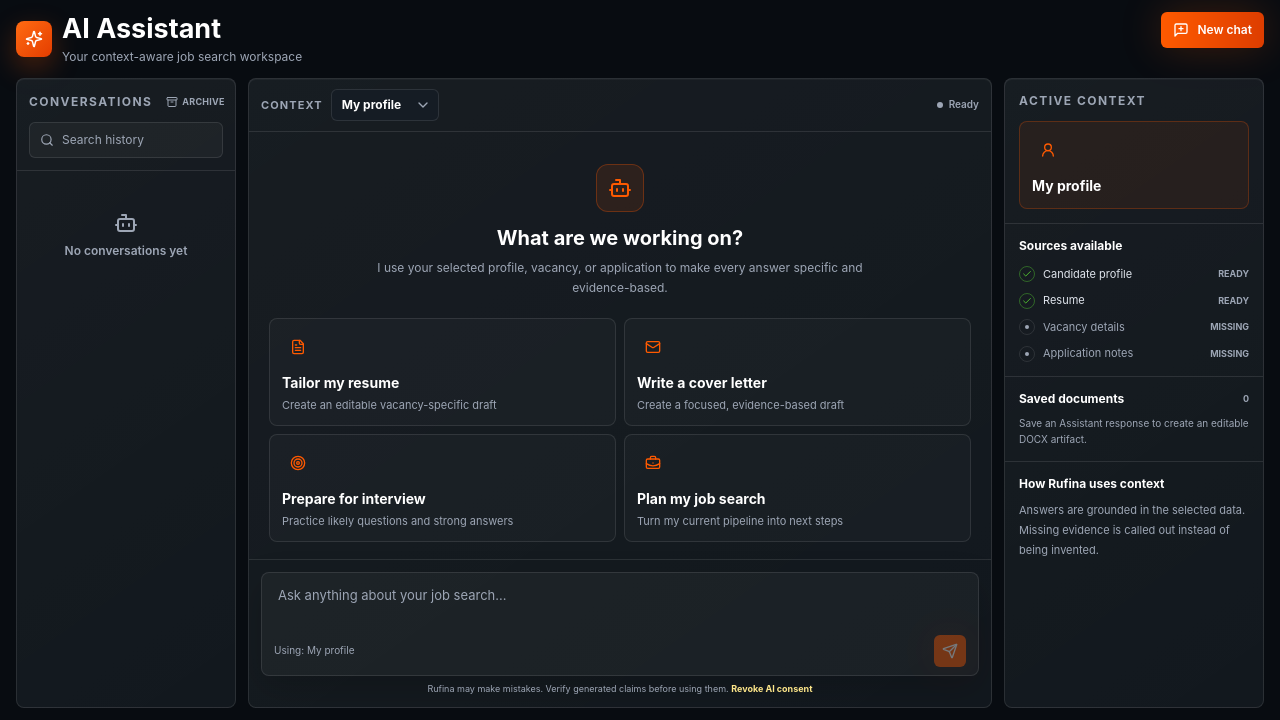
Test case: resumes a dropped SSE chat from its offset and requires action-preview confirmation
expect the button "Revoke AI consent" is shown: met, box [731, 682, 813, 695]
In the text box with placeholder "Ask anything about your job search…": (620, 604) [270, 580, 970, 628], type "Update my headline"
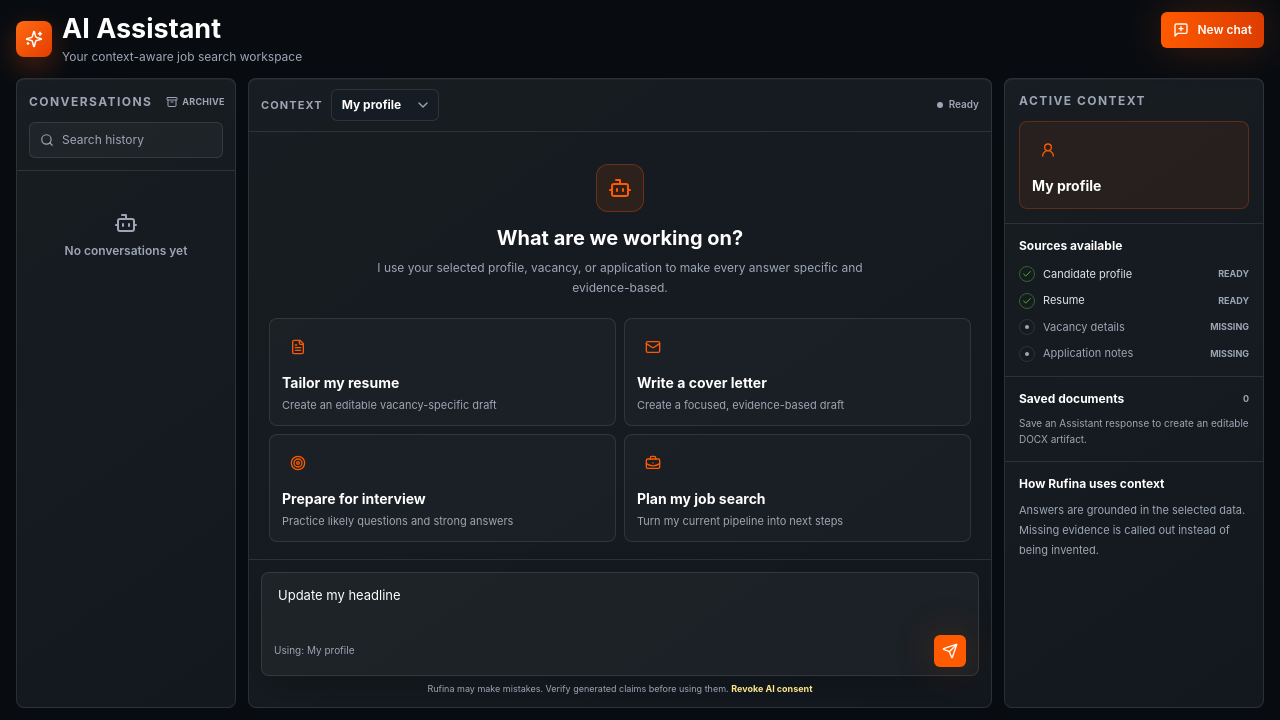
Click the button named "Send message": click(950, 650) [934, 634, 966, 666]
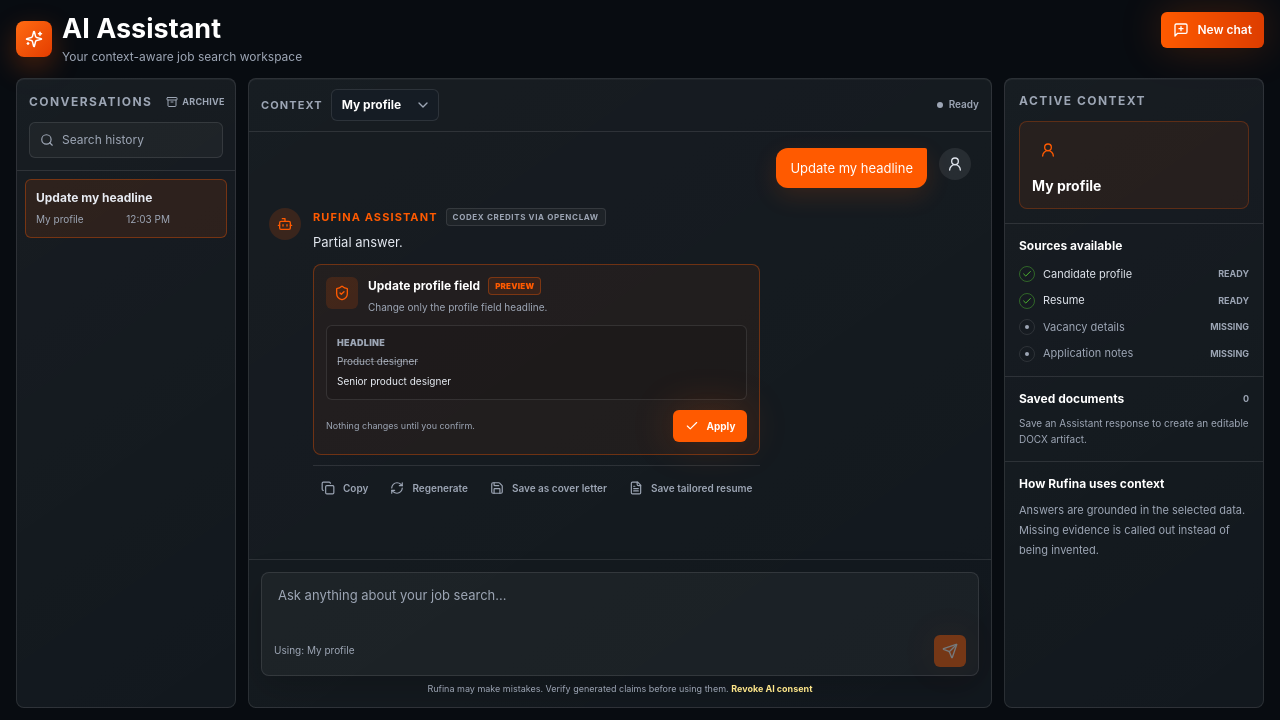
expect the text "Partial answer." is shown: met, box [313, 234, 403, 250]
expect the text "Preview" is shown: met, box [488, 277, 541, 295]
expect the text "Senior product designer" is shown: met, box [337, 375, 451, 387]
Click the button with aria-label "Apply Update profile field": click(710, 426) [672, 410, 747, 442]
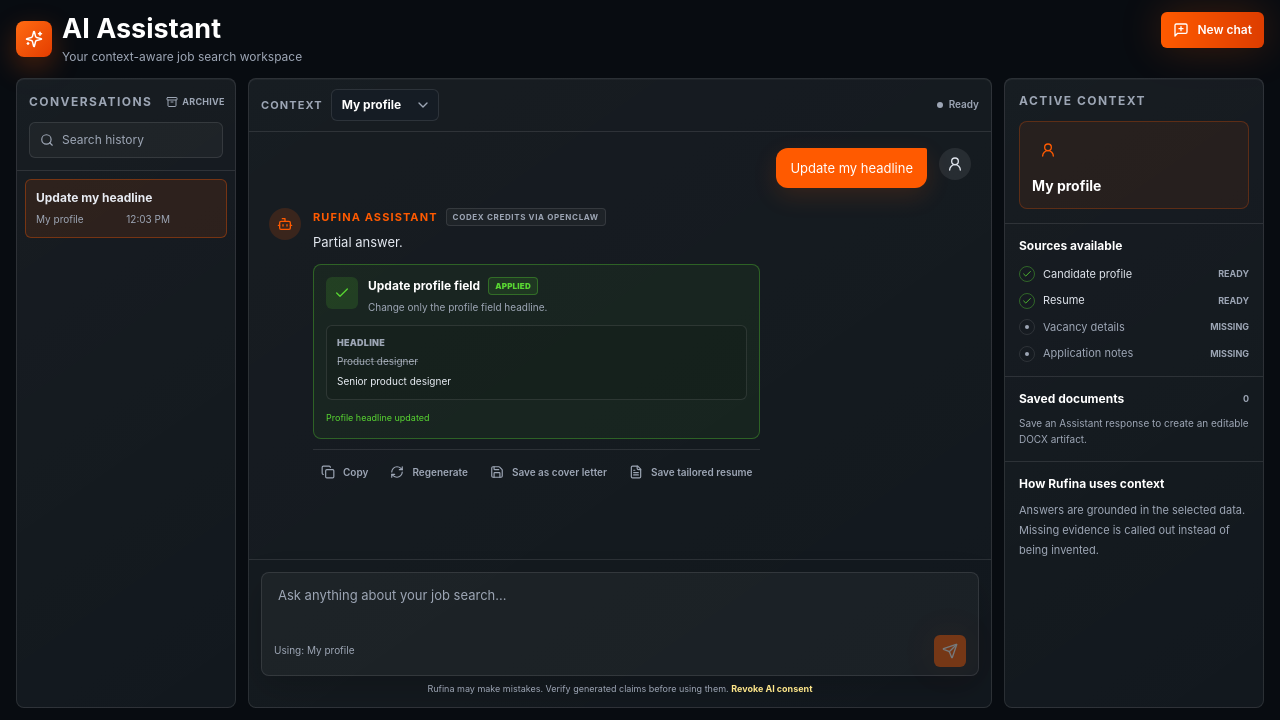
expect the text "Profile headline updated" is shown: met, box [326, 410, 430, 426]
